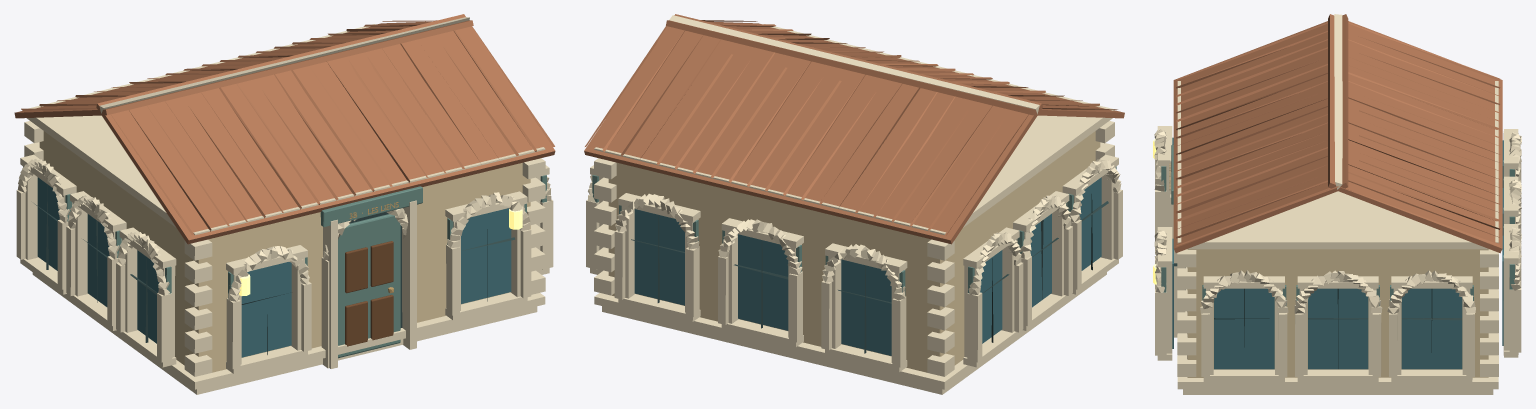
Rendered from espagne-1-lod.glb.
3 renders of one model, left to right at view 1: azimuth 30°, elevation 25°; view 2: azimuth 150°, elevation 25°; view 3: azimuth 270°, elevation 25°, orthographic. The views are drawn at different scales.
Parts seen in each view (by area): view 1: espagne-1_Regional roof.001, espagne-1_Dressed stone.001, espagne-1_Masonry plaster.001, espagne-1_Window blue.001, espagne-1_Regional painted wood.001, espagne-1_Walnut.001, espagne-1_Forged midnight.001, espagne-1_Warm light.001; view 2: espagne-1_Regional roof.001, espagne-1_Dressed stone.001, espagne-1_Masonry plaster.001, espagne-1_Window blue.001, espagne-1_Forged midnight.001, espagne-1_Regional painted wood.001; view 3: espagne-1_Regional roof.001, espagne-1_Dressed stone.001, espagne-1_Window blue.001, espagne-1_Masonry plaster.001, espagne-1_Regional painted wood.001, espagne-1_Forged midnight.001.
Boxes of the visible parts, left/top/right/bottom form: espagne-1_Regional roof.001: left=14, top=14, right=555, bottom=244; espagne-1_Dressed stone.001: left=16, top=17, right=553, bottom=394; espagne-1_Masonry plaster.001: left=39, top=131, right=530, bottom=372; espagne-1_Window blue.001: left=37, top=177, right=511, bottom=357; espagne-1_Regional painted wood.001: left=23, top=166, right=546, bottom=358; espagne-1_Walnut.001: left=345, top=241, right=393, bottom=346; espagne-1_Forged midnight.001: left=34, top=184, right=515, bottom=354; espagne-1_Warm light.001: left=239, top=209, right=522, bottom=295; espagne-1_Regional roof.001: left=584, top=14, right=1124, bottom=244; espagne-1_Dressed stone.001: left=586, top=15, right=1122, bottom=394; espagne-1_Masonry plaster.001: left=608, top=131, right=1100, bottom=372; espagne-1_Window blue.001: left=634, top=177, right=1101, bottom=355; espagne-1_Forged midnight.001: left=631, top=194, right=1108, bottom=353; espagne-1_Regional painted wood.001: left=592, top=166, right=1116, bottom=295; espagne-1_Regional roof.001: left=1173, top=14, right=1502, bottom=253; espagne-1_Dressed stone.001: left=1154, top=14, right=1521, bottom=394; espagne-1_Window blue.001: left=1172, top=137, right=1503, bottom=369; espagne-1_Masonry plaster.001: left=1187, top=249, right=1488, bottom=377; espagne-1_Regional painted wood.001: left=1161, top=144, right=1514, bottom=306; espagne-1_Forged midnight.001: left=1174, top=263, right=1462, bottom=368.
Size of the model in its own units: 14.19 by 8.01 by 12.2.
